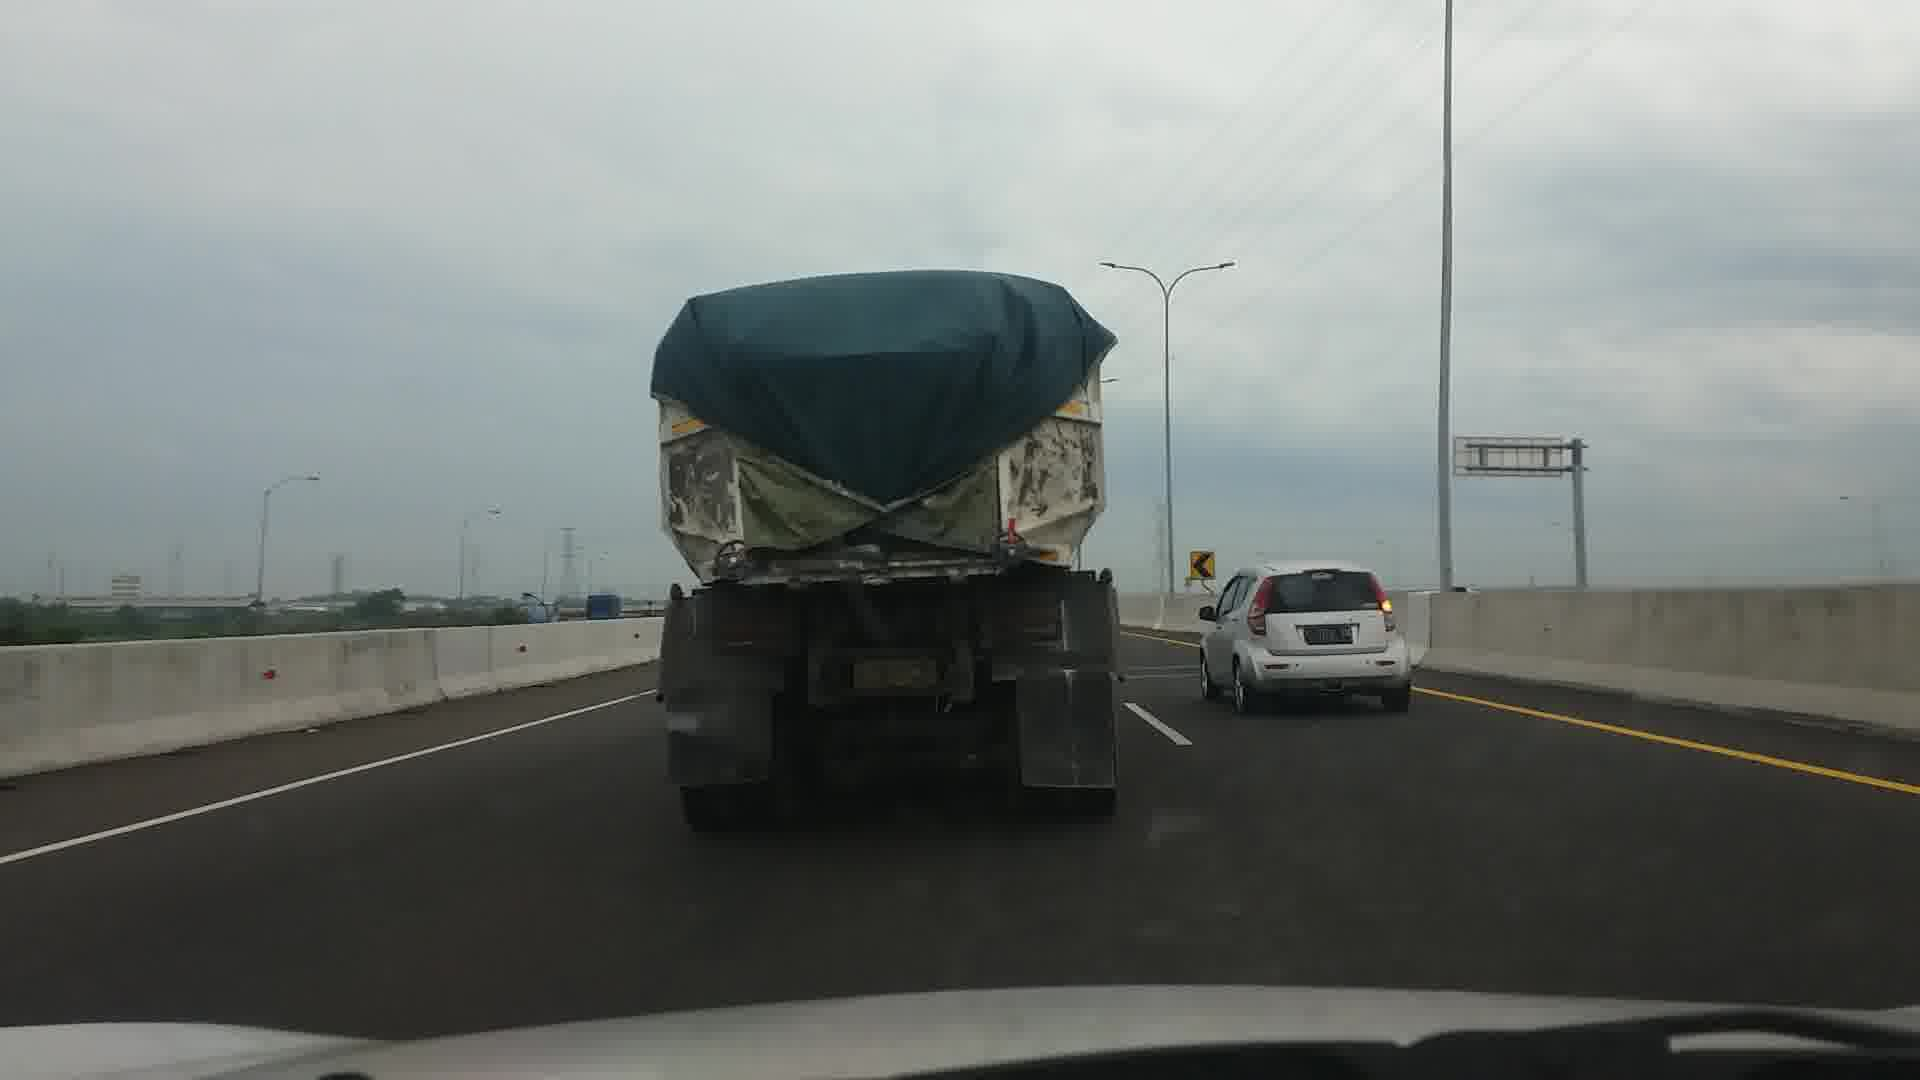plate_positive: (853, 657, 936, 688), (1304, 626, 1353, 645)
